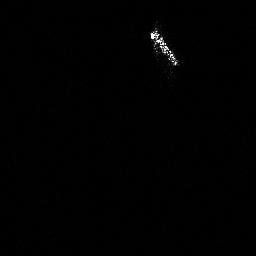ship: (148, 24, 182, 69)
